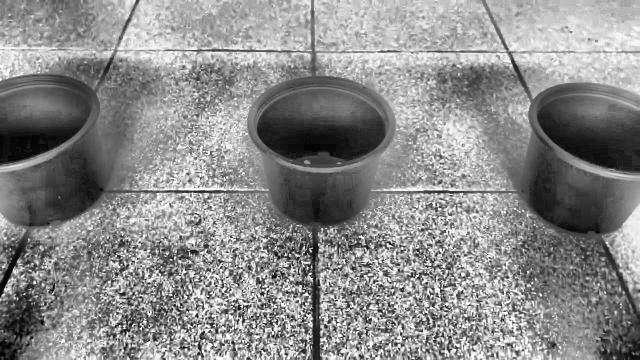pot: (247, 77, 397, 228), (519, 84, 640, 236), (0, 74, 108, 229)
